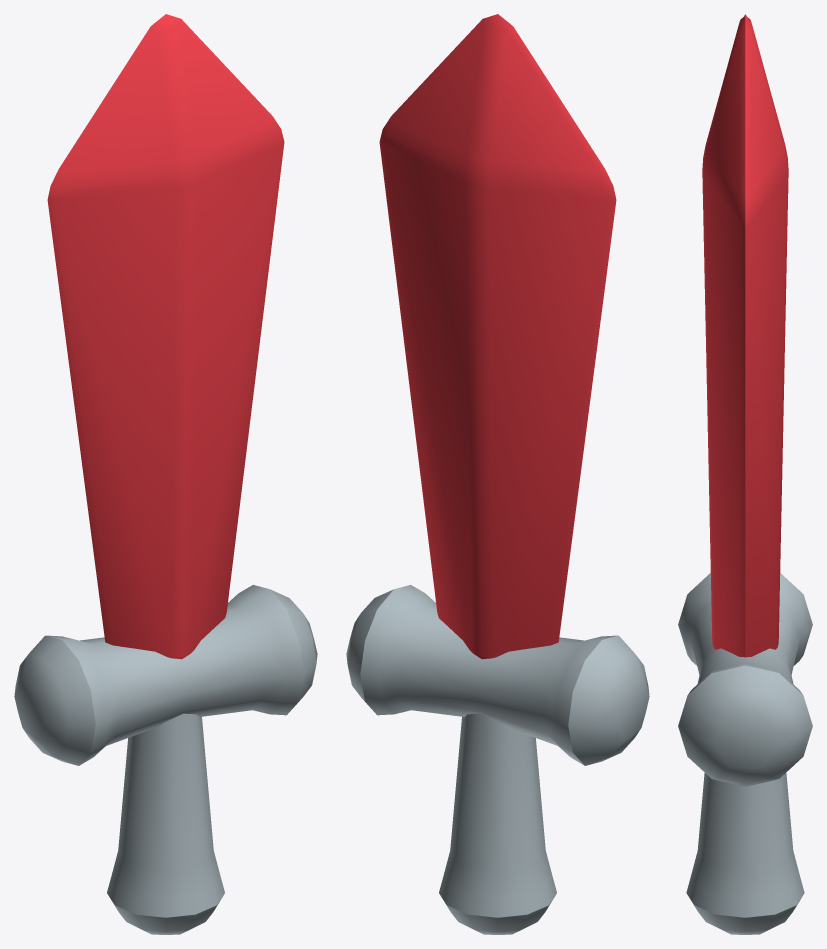
The model's file is sword_teamRed.glb.
3 views of the same model, side by side, from view 1: azimuth 30°, elevation 25°; view 2: azimuth 150°, elevation 25°; view 3: azimuth 270°, elevation 25° (orthographic).
Visible parts, largest first — view 1: sword_teamRed; view 2: sword_teamRed; view 3: sword_teamRed.
Part boxes in pixels (<box>): sword_teamRed: <box>14,14,317,934</box>; sword_teamRed: <box>346,14,649,934</box>; sword_teamRed: <box>678,14,812,934</box>.
Bounding box in the file's own units: 0.158 × 0.5069 × 0.0681.
